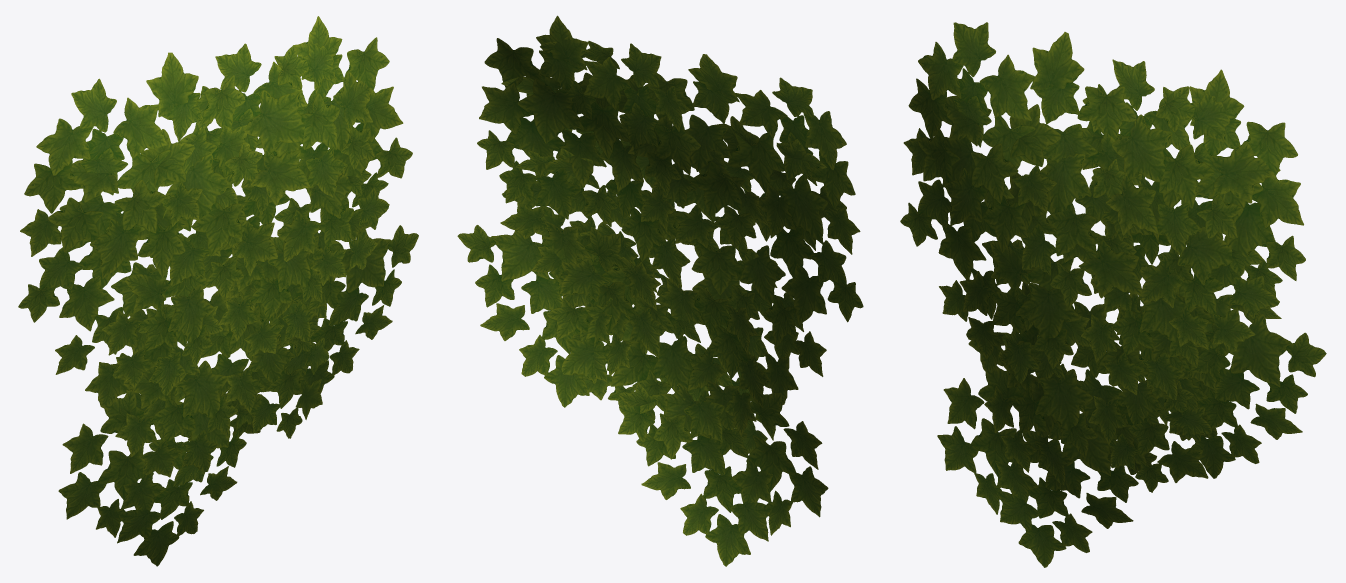
Rendered from MSH_fwOF_Ivy_04.fbx.
3 renders of one model, left to right at view 1: azimuth 30°, elevation 25°; view 2: azimuth 150°, elevation 25°; view 3: azimuth 330°, elevation 25°, orthographic. The views are drawn at different scales.
Visible parts, largest first — view 1: MSH_fwOF_Ivy_04_LOD0; view 2: MSH_fwOF_Ivy_04_LOD0; view 3: MSH_fwOF_Ivy_04_LOD0.
Boxes of the visible parts, x1,y1,x2,y2 form: MSH_fwOF_Ivy_04_LOD0: [18, 16, 418, 566]; MSH_fwOF_Ivy_04_LOD0: [457, 15, 863, 566]; MSH_fwOF_Ivy_04_LOD0: [900, 22, 1326, 567].
Size of what is drawn, in the model's own units: 1.02 by 1.22 by 0.1414.
